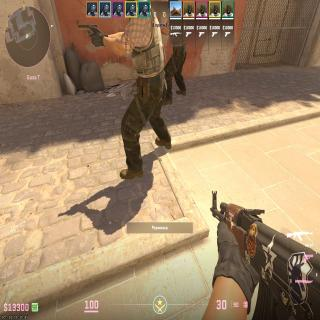T-Body: (120, 2, 171, 170), (163, 5, 187, 92)
